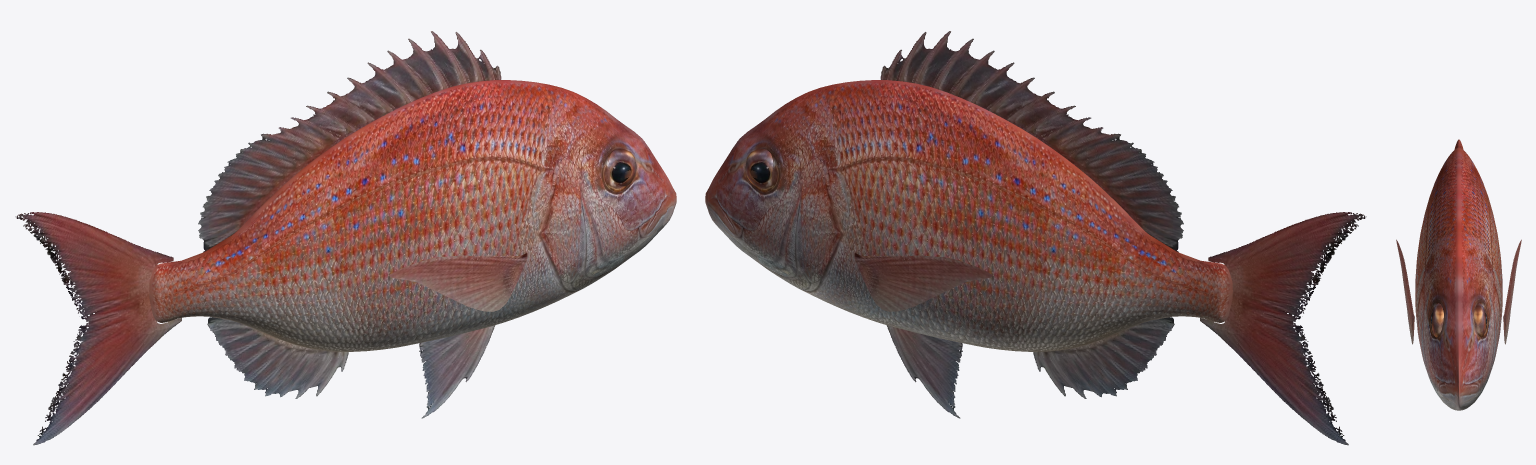
The model's file is fish_madai.glb.
3 renders of one model, left to right at view 1: azimuth 30°, elevation 25°; view 2: azimuth 150°, elevation 25°; view 3: azimuth 270°, elevation 25°, orthographic. The views are drawn at different scales.
Visible parts, largest first — view 1: hi, lo; view 2: hi, lo; view 3: hi, lo.
Boxes of the visible parts, x1,y1,x2,y2 form: hi: (16, 32, 676, 445); lo: (17, 31, 676, 444); hi: (705, 31, 1366, 432); lo: (705, 32, 1365, 445); hi: (1396, 139, 1521, 410); lo: (1400, 142, 1517, 407).
Size of the model in its own units: 1 by 0.5569 by 0.2029.
1 material, 1 textured.
